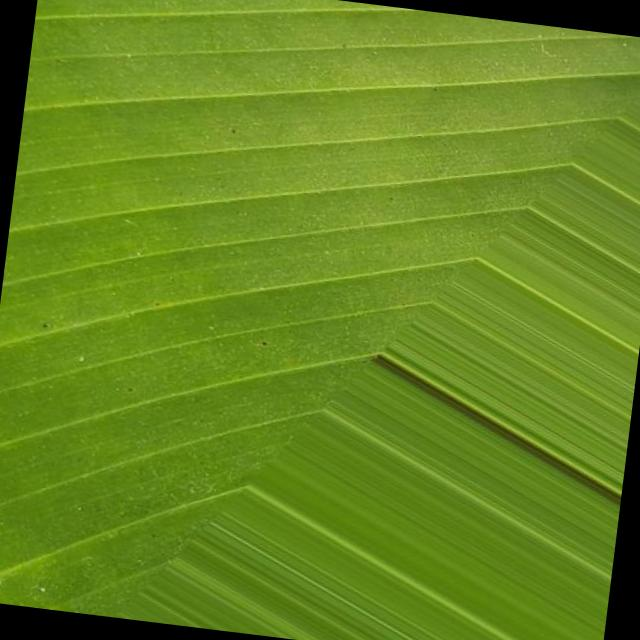Banana_Healthy: (40, 14, 394, 463)
